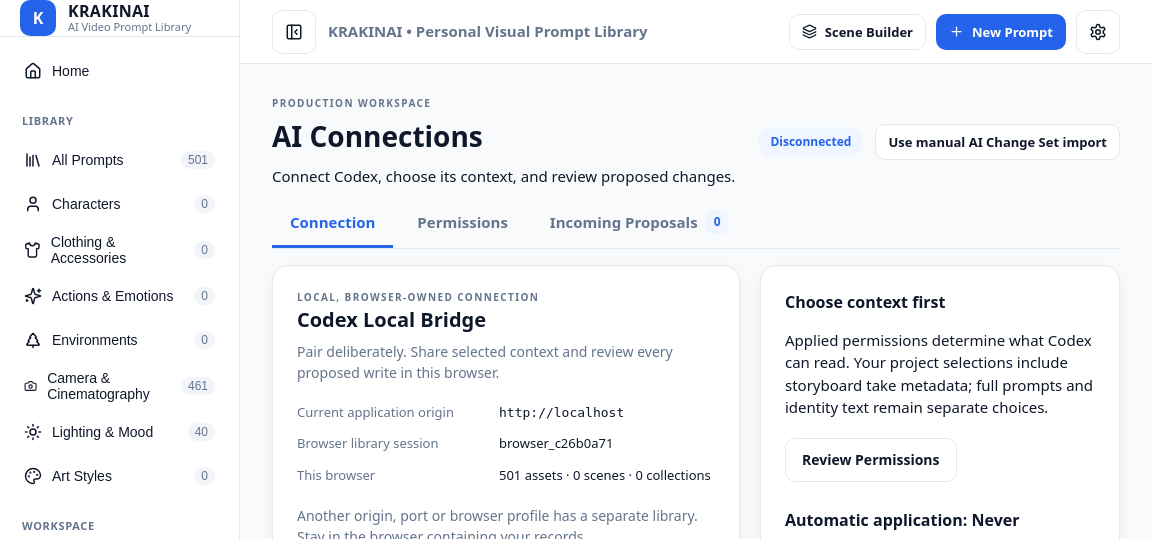
Scenario: rejects oversized bulk access without selecting a prefix or enabling sensitive flags
The width and height of the screenshot is (1152, 539).
Expected: the heading "AI Connections" is shown, [272,117,483,155]
Click the tab "Permissions" at (463, 224), box [399,200,526,248]
(page scrolled)
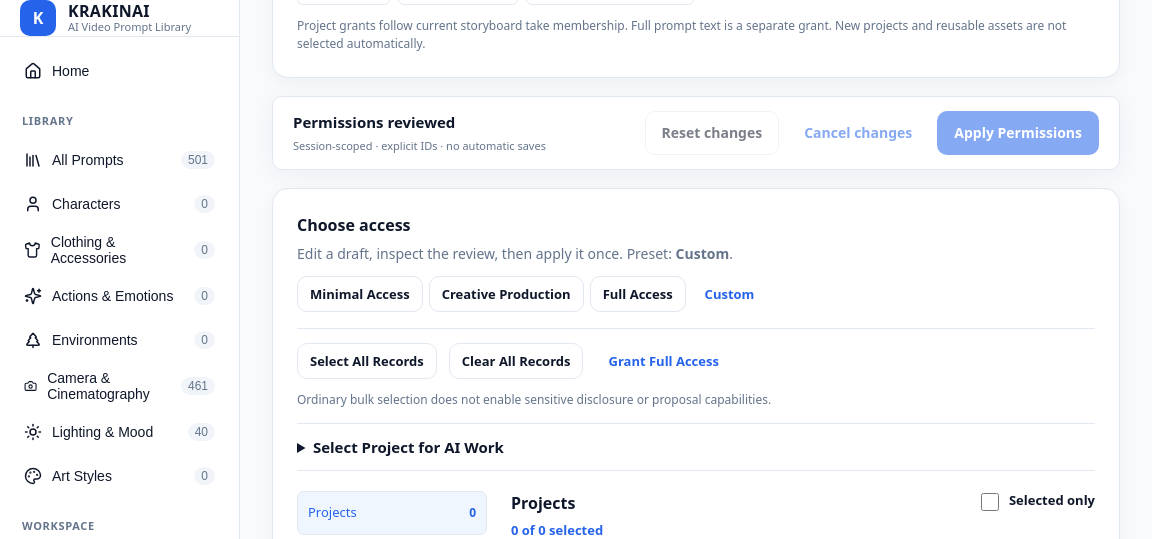
Click the button "Select All Records" at (367, 360), box [297,342,437,378]
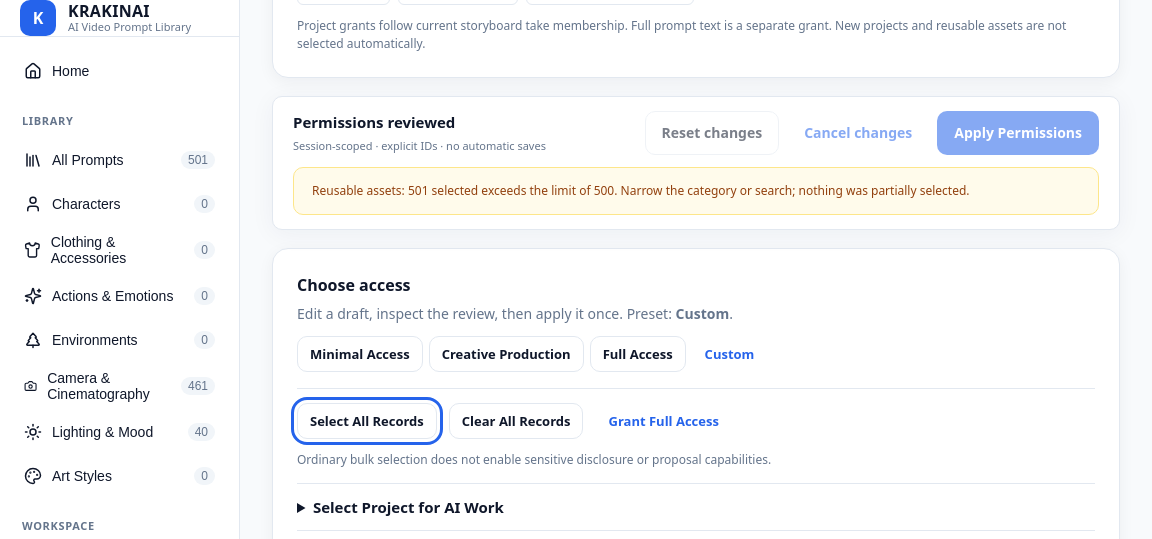
Expected: the button "Apply Permissions" is disabled, [937,110,1099,154]
Expected: the message shows "501", [312,182,970,198]
Expected: the message shows "500", [312,182,970,198]
